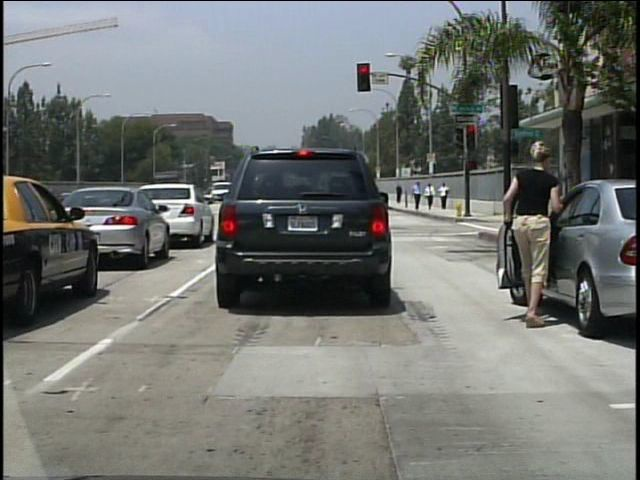person: (502, 140, 568, 326), (439, 182, 451, 210), (415, 179, 425, 210), (426, 182, 437, 210), (396, 184, 405, 205)
